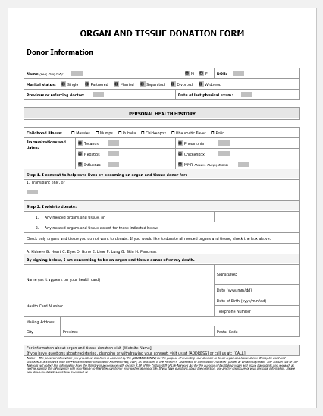checkbox: (169, 80, 177, 87), (184, 70, 191, 77), (140, 80, 147, 87), (198, 80, 205, 87), (77, 140, 84, 147), (178, 139, 184, 147), (178, 160, 184, 168), (199, 70, 205, 77), (61, 80, 67, 87), (84, 80, 90, 87), (114, 80, 120, 87), (77, 150, 83, 157), (178, 150, 183, 158), (77, 161, 83, 167), (140, 130, 146, 135), (118, 131, 123, 136), (210, 131, 216, 135), (171, 131, 175, 136), (95, 131, 99, 135), (71, 131, 74, 135)
textbox: (22, 178, 301, 202), (22, 263, 216, 297), (21, 293, 216, 318), (58, 314, 302, 327), (23, 66, 215, 79), (58, 324, 216, 339), (23, 88, 177, 102), (213, 263, 301, 286), (173, 87, 302, 101), (213, 293, 304, 307), (213, 282, 302, 296), (213, 66, 301, 80), (213, 324, 301, 338), (213, 304, 301, 317), (22, 325, 62, 338), (107, 140, 121, 147), (218, 140, 232, 147), (107, 150, 120, 157), (107, 161, 120, 168), (238, 161, 251, 168), (218, 151, 231, 157)
